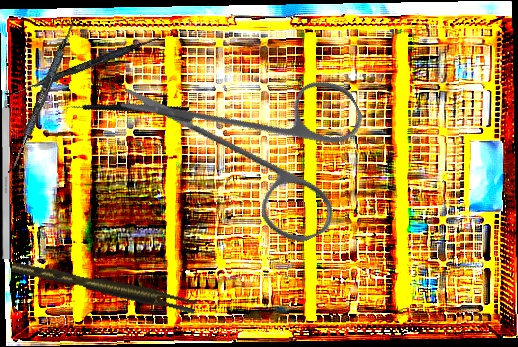Chopper: (61, 63, 190, 158)
Hook Surgical: (2, 73, 10, 259)
Iris Scissors: (115, 0, 401, 288)
Spatula Surgical: (7, 15, 78, 177), (5, 31, 162, 102)
Tissue Forceps: (10, 252, 198, 320)
